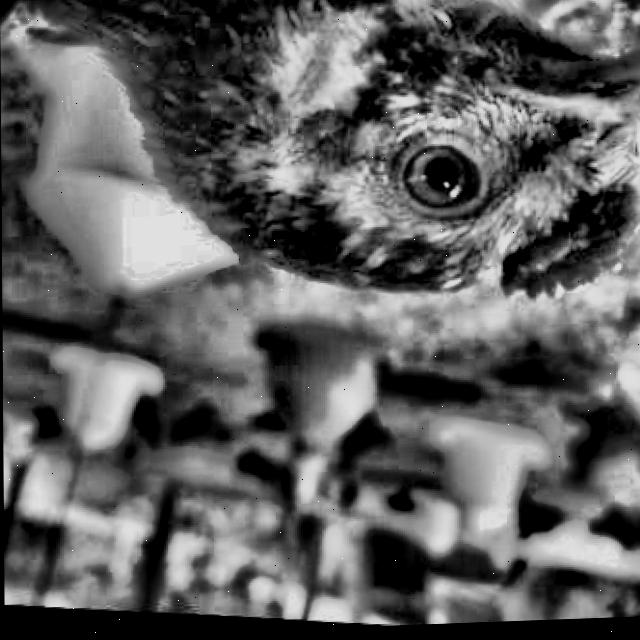Healthy: (367, 120, 508, 242)
